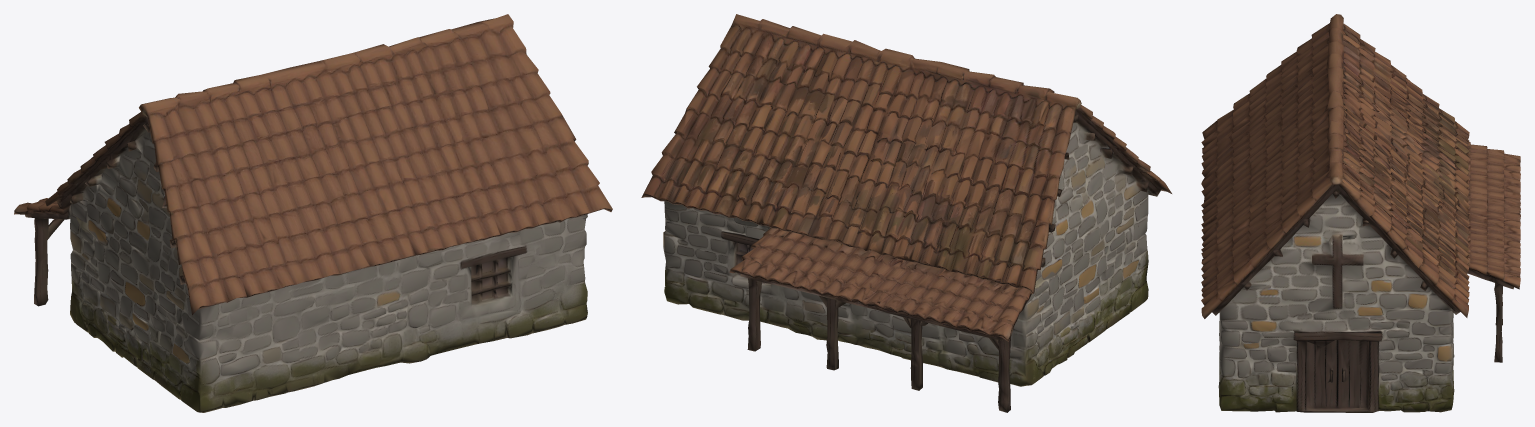
The model's file is 0e163cbe-8ab7-4d55-ad7c-b3880889a425_model_url.glb.
The picture shows the model from 3 angles, left to right: view 1: azimuth 30°, elevation 25°; view 2: azimuth 150°, elevation 25°; view 3: azimuth 270°, elevation 25°; orthographic projection. The views are drawn at different scales.
Visible parts, largest first — view 1: tripo_node_0e163cbe-8ab7-4d55-ad7c-b3880889a425; view 2: tripo_node_0e163cbe-8ab7-4d55-ad7c-b3880889a425; view 3: tripo_node_0e163cbe-8ab7-4d55-ad7c-b3880889a425.
Boxes of the visible parts, x1,y1,x2,y2 form: tripo_node_0e163cbe-8ab7-4d55-ad7c-b3880889a425: (14,14,612,412); tripo_node_0e163cbe-8ab7-4d55-ad7c-b3880889a425: (641,14,1171,412); tripo_node_0e163cbe-8ab7-4d55-ad7c-b3880889a425: (1201,14,1520,412).
Size of the model in its own units: 1 by 0.6018 by 0.7355.
Materials: 1 (1 with a texture image).
